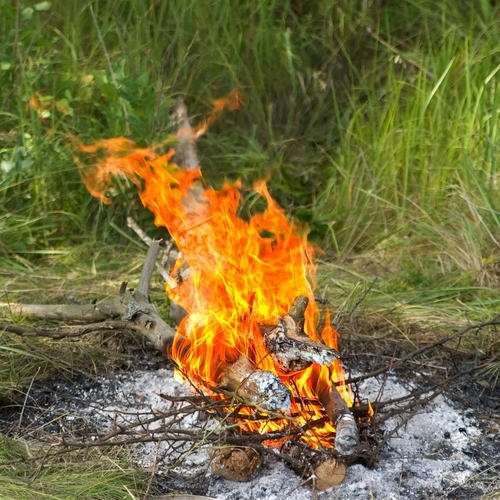fire: (129, 133, 357, 431)
